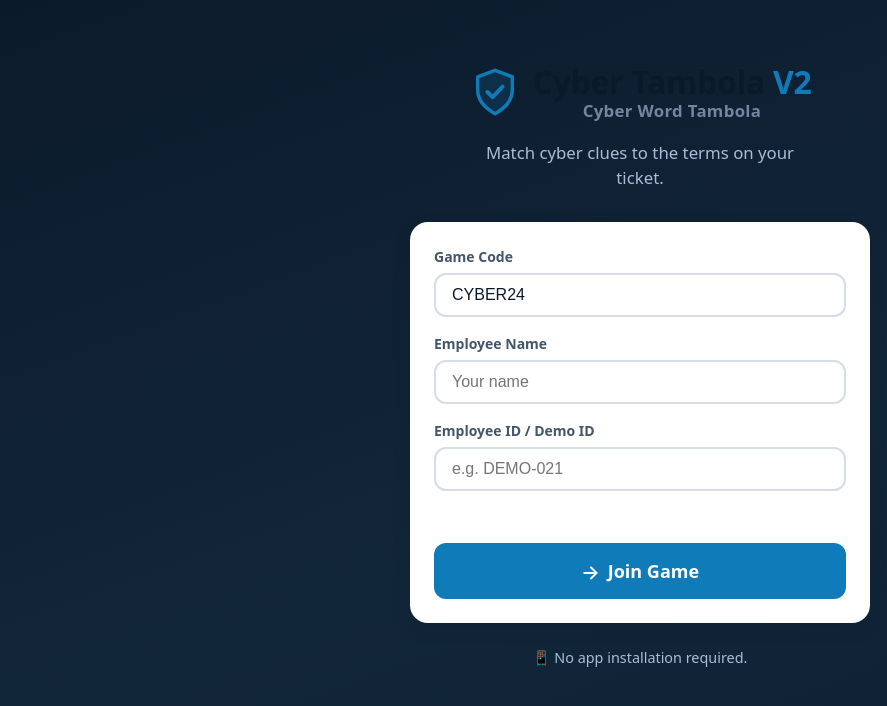
it: PlayerJoin › shows a validation message and does not navigate when the id is empty
The image size is (887, 706).
Type "Asha" into the field labelled "Employee Name". click: (640, 382)
box: [434,360,846,404]
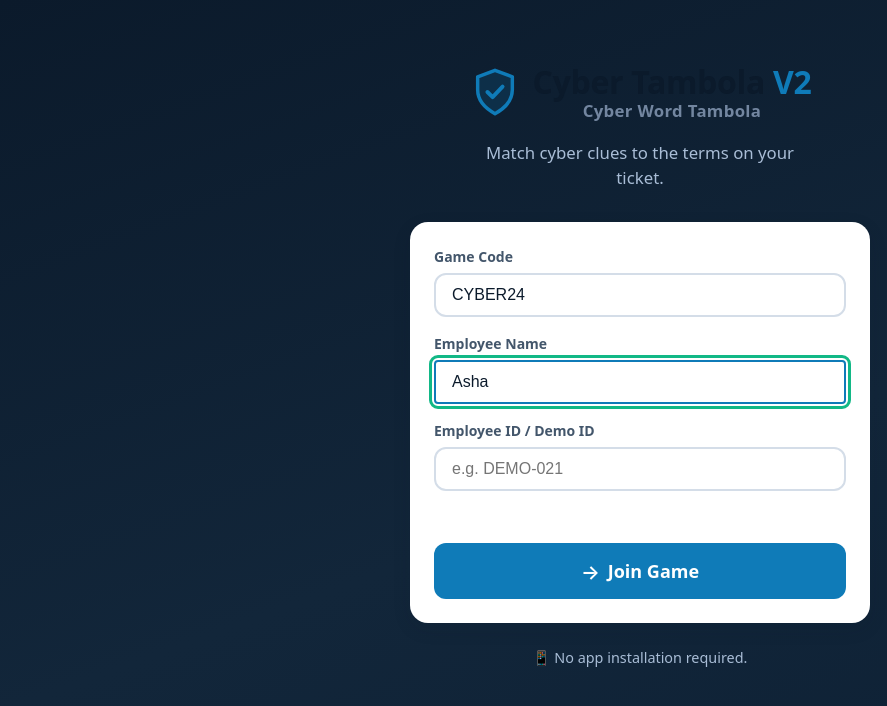
Click the button "→ Join Game". click: (640, 571)
box: [434,543,846,599]
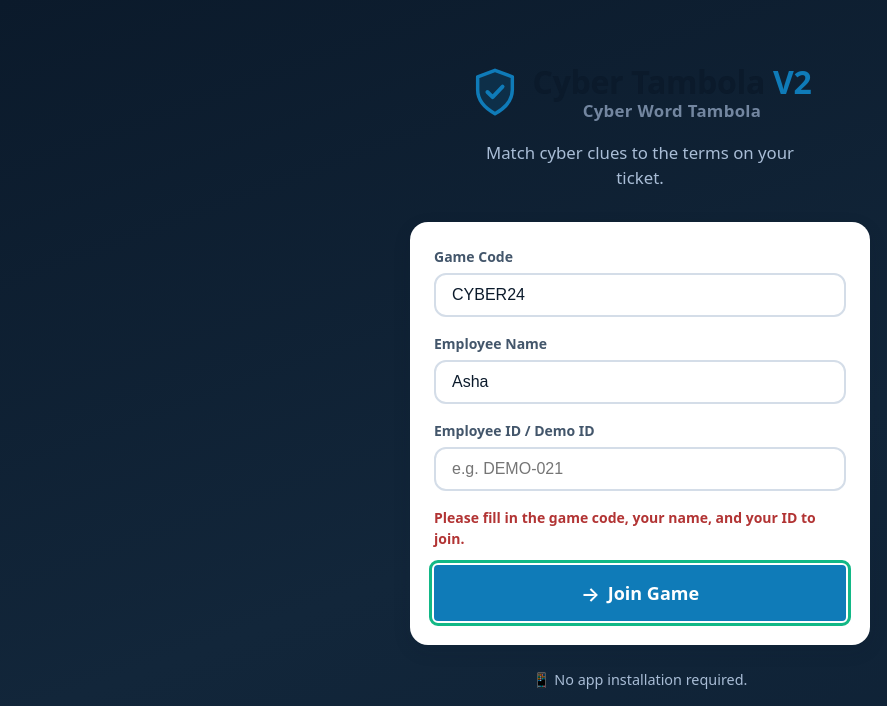
Now the message shows "Please fill in", box [434,508,816,548]
